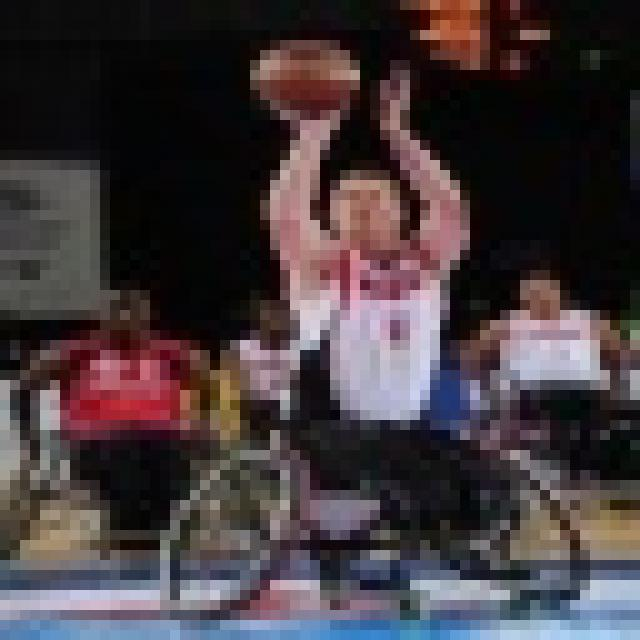wheelchairs: (166, 406, 590, 622), (0, 409, 249, 548)
